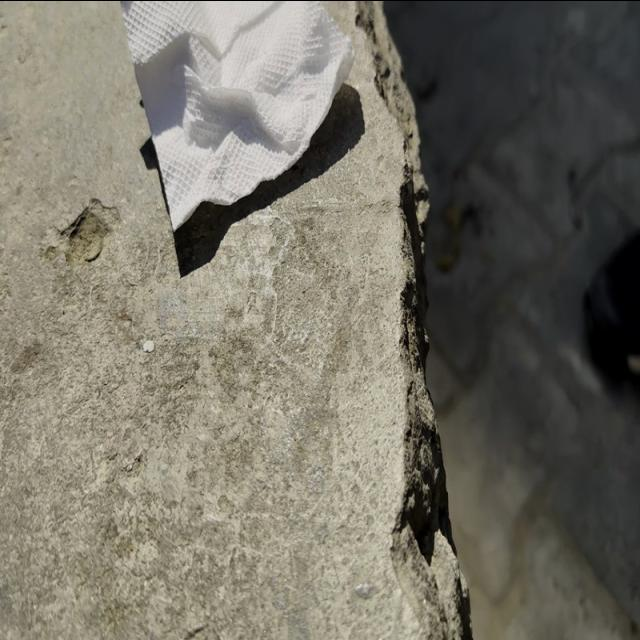tissue: (111, 0, 351, 232)
